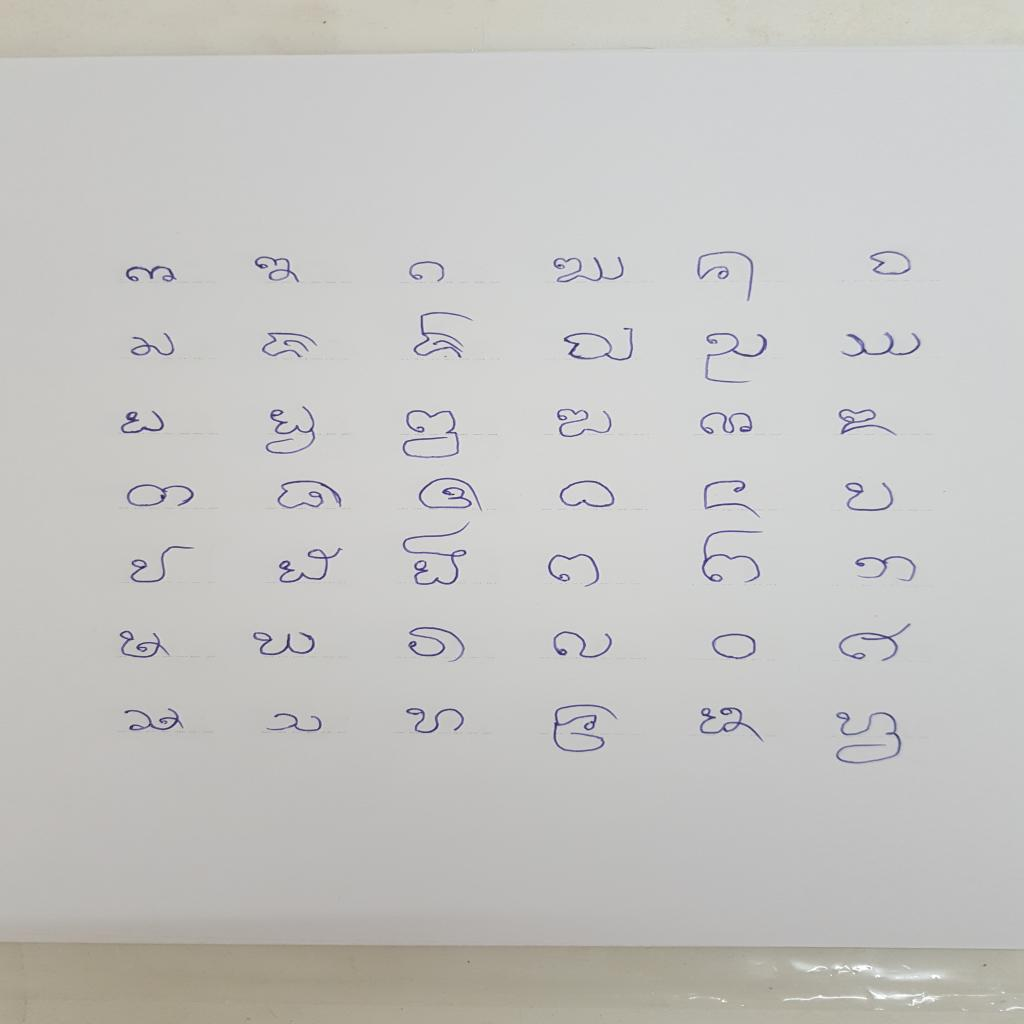LN001: (121, 264, 184, 287)
LN002: (250, 254, 307, 287)
LN003: (403, 259, 451, 286)
LN004: (548, 255, 630, 288)
LN006: (864, 249, 919, 279)
LN007: (124, 331, 182, 360)
LN008: (257, 329, 324, 362)
LN010: (558, 325, 641, 365)
LN011: (698, 330, 774, 388)
LN012: (835, 331, 928, 362)
LN014: (260, 404, 324, 459)
LN015: (398, 408, 467, 463)
LN016: (552, 406, 618, 441)
LN017: (697, 411, 759, 438)
LN018: (834, 407, 905, 441)
LN019: (121, 481, 201, 512)
LN021: (414, 476, 489, 516)
LN022: (552, 477, 622, 512)
LN023: (697, 477, 767, 523)
LN024: (839, 479, 901, 516)
LN025: (127, 544, 201, 587)
LN028: (542, 552, 607, 591)
LN029: (696, 528, 769, 588)
LN030: (847, 553, 923, 586)
LN031: (114, 627, 176, 662)
LN032: (247, 629, 322, 660)
LN033: (401, 625, 472, 667)
LN035: (707, 630, 764, 664)
LN036: (832, 622, 918, 666)
LN037: (116, 706, 191, 735)
LN038: (262, 711, 329, 736)
LN039: (401, 705, 471, 737)
LN042: (828, 707, 909, 769)
